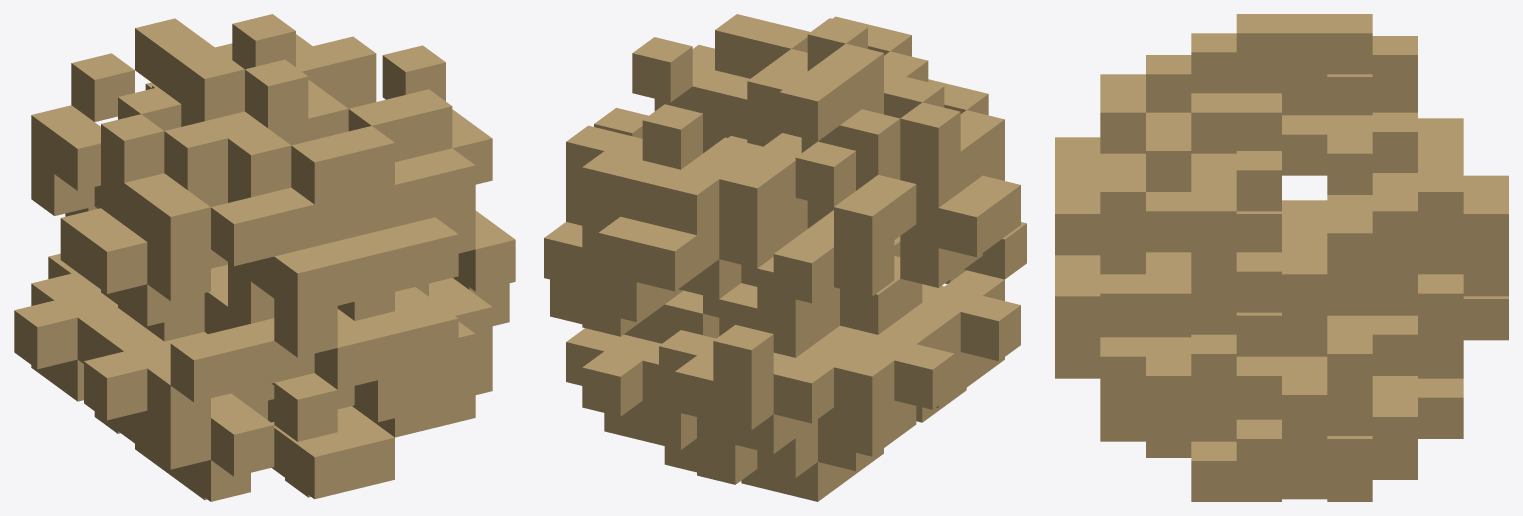
File: planta_rodante.obj
3 views of the same model, side by side, from view 1: azimuth 30°, elevation 25°; view 2: azimuth 150°, elevation 25°; view 3: azimuth 270°, elevation 25° (orthographic). The views are drawn at different scales.
Bounding box in the file's own units: 1 × 1 × 1.
1 material, 1 textured.
